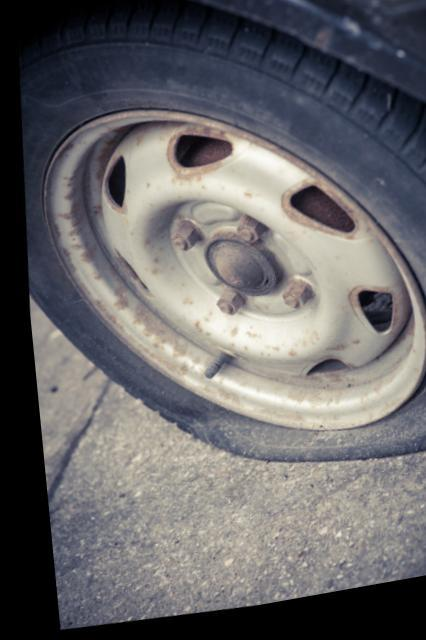tire flat: (17, 0, 426, 472)
